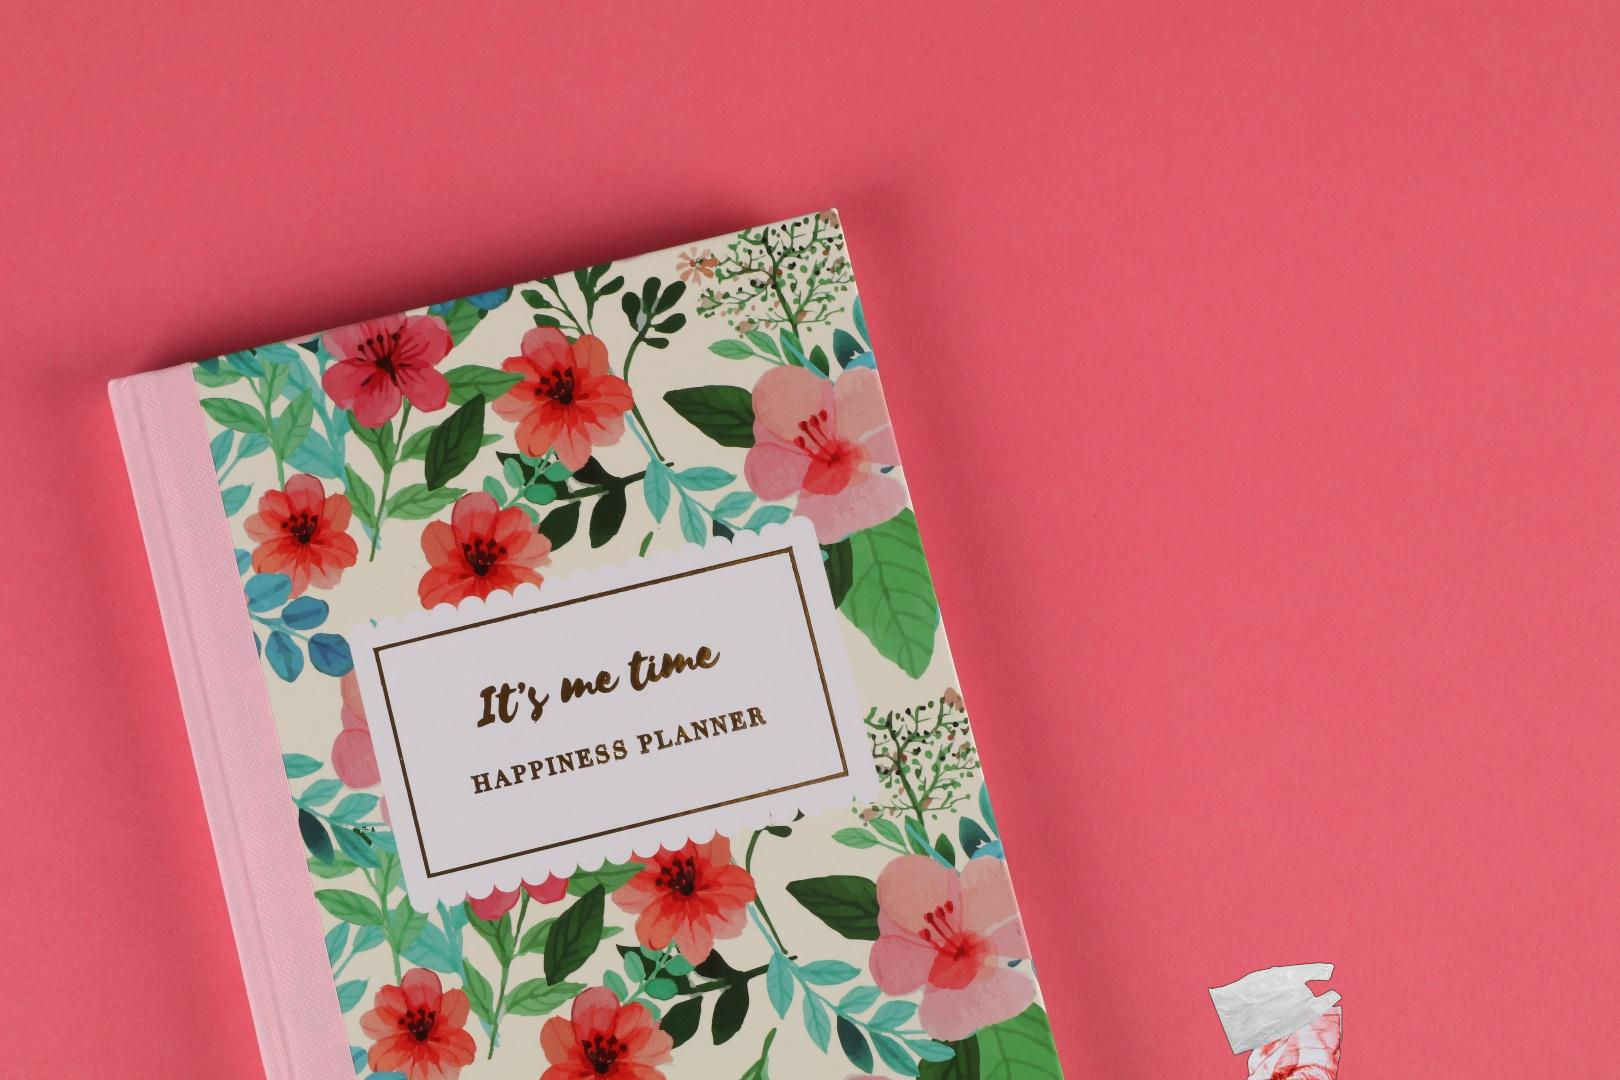plastic-bag: (1205, 959, 1345, 1080)
